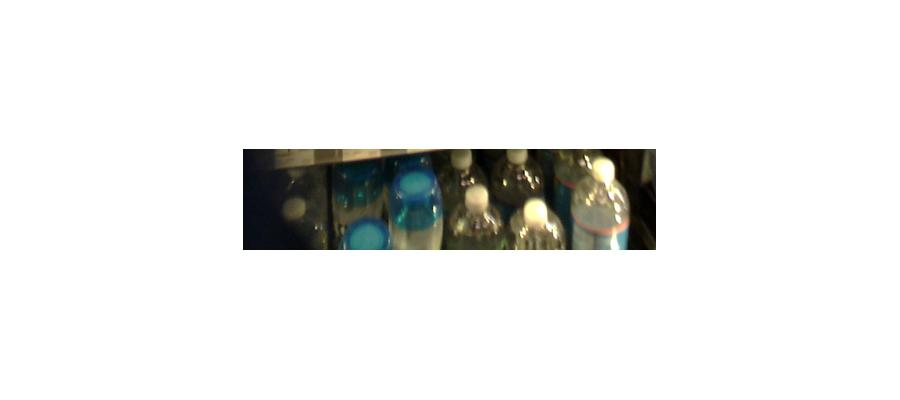bottle: (497, 152, 561, 249), (570, 152, 631, 252), (444, 150, 504, 246), (387, 158, 439, 250), (336, 158, 386, 248)
